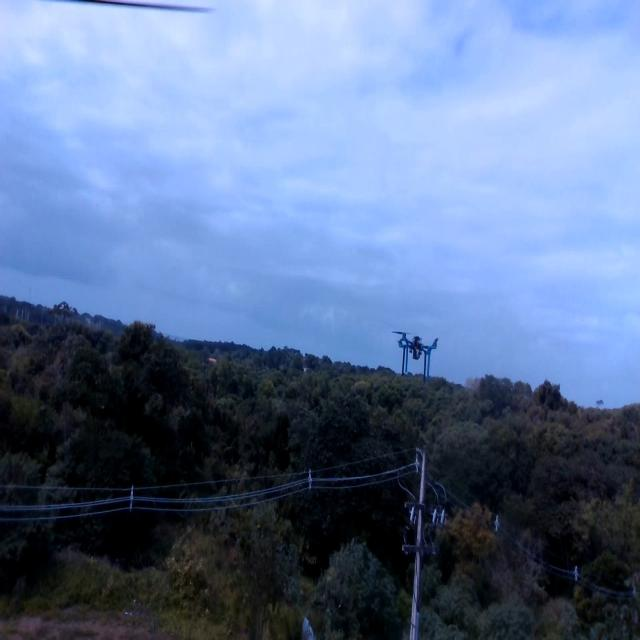-uav-: (384, 310, 448, 394)
